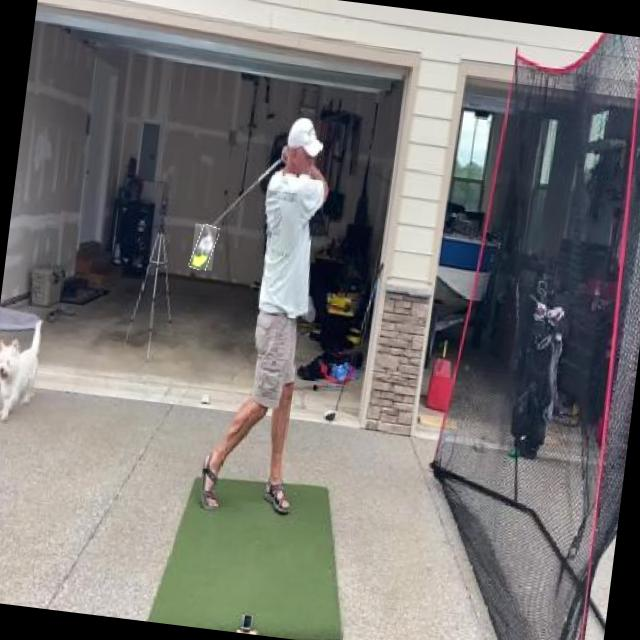club head: (190, 223, 217, 271)
